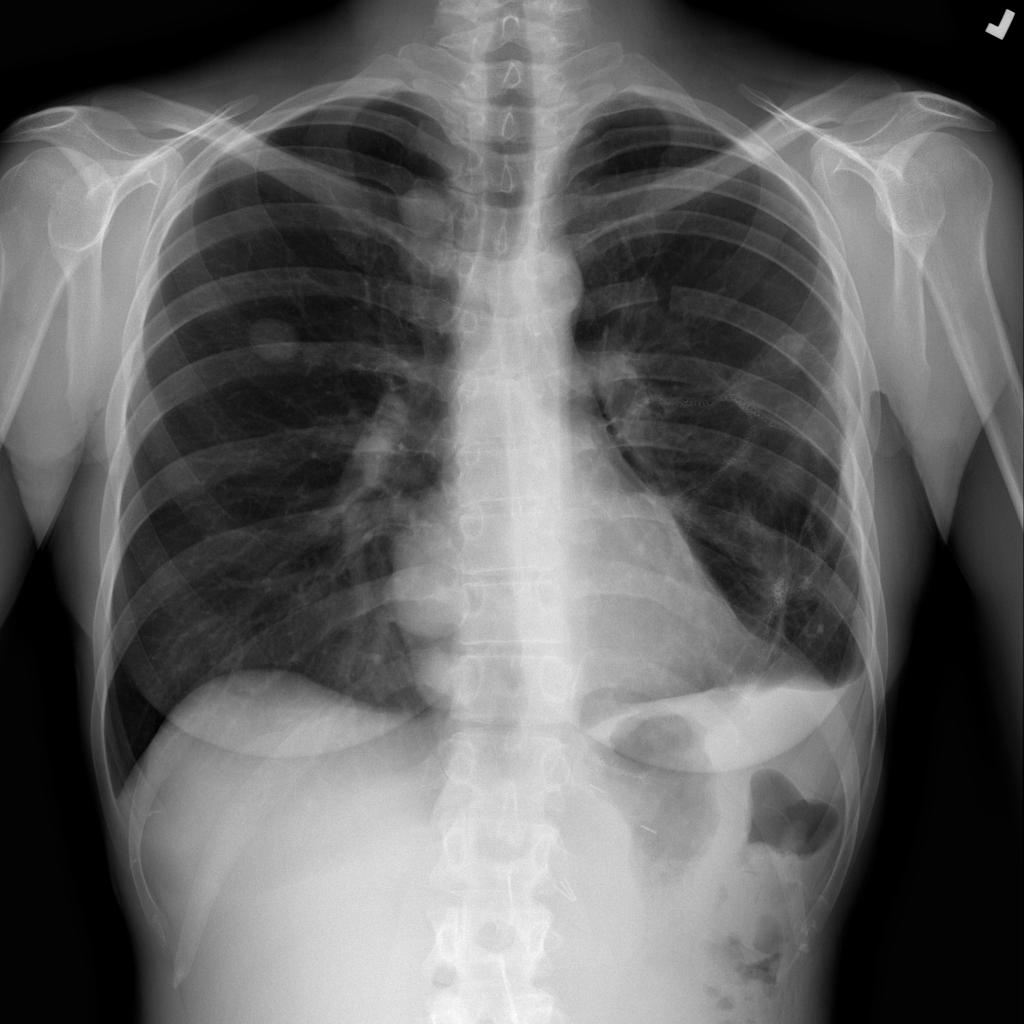nodule: (386, 179, 462, 254), (234, 306, 312, 376)
